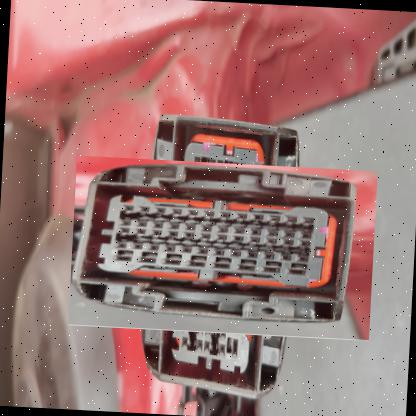Connector: (100, 122, 348, 370)
